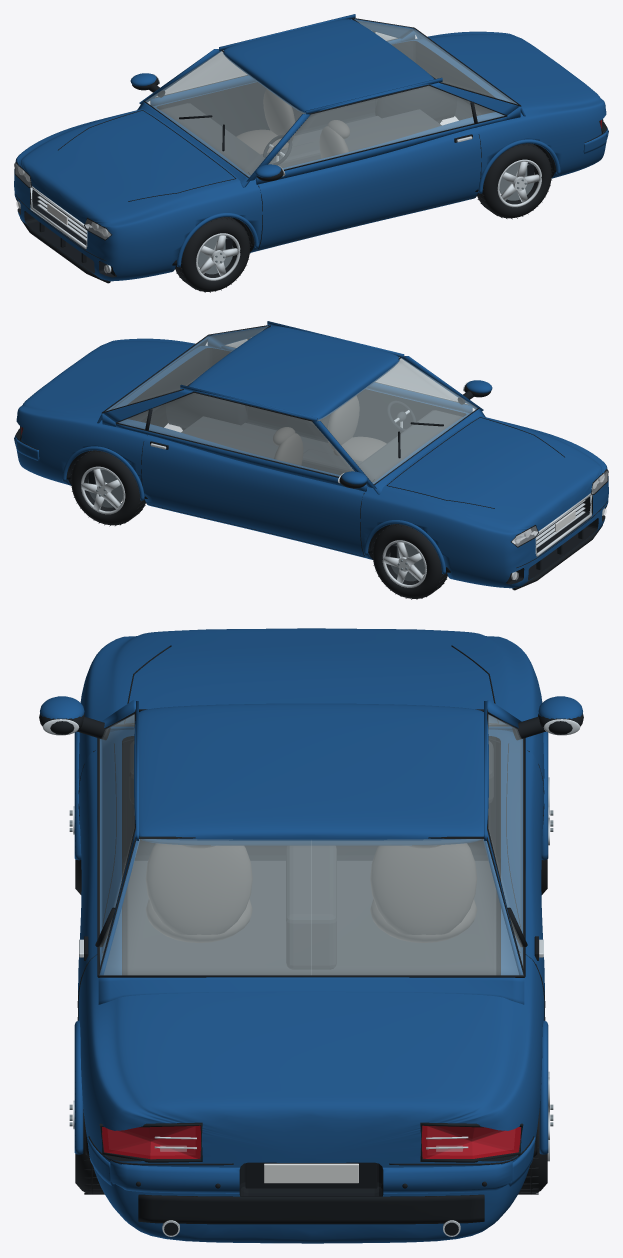
The model's file is generic-front-engine-grand-tourer-coupe.glb.
3 renders of one model, top to bottom at view 1: azimuth 30°, elevation 25°; view 2: azimuth 150°, elevation 25°; view 3: azimuth 270°, elevation 25°, orthographic. The views are drawn at different scales.
Visible parts, largest first — view 1: Original grand_tourer fourteen-section body shell, Separate closed door panel, Crowned roof pressing, Raked transparent windscreen, Single long coupe door glass, Separate closed door panel.001, Rear transparent coupe glass, Original tyre carcass and shaped sidewalls, Original tyre carcass and shaped sidewalls.002, Interior carpet, Sculpted instrument panel, Wheelhouse arched liner.003 (+25 smaller); view 2: Original grand_tourer fourteen-section body shell, Separate closed door panel.001, Crowned roof pressing, Raked transparent windscreen, Single long coupe door glass.001, Separate closed door panel, Rear transparent coupe glass, Original tyre carcass and shaped sidewalls.001, Original tyre carcass and shaped sidewalls.003, Interior carpet, Sculpted instrument panel, Wheelhouse arched liner.002 (+25 smaller); view 3: Original grand_tourer fourteen-section body shell, Rear transparent coupe glass, Crowned roof pressing, Interior carpet, Sculpted rear lower bumper insert, Contoured seat back, Contoured seat back.001, Painted rear glass sill, Formed painted rear bumper cover, Center console, Separate closed door panel.001, Separate closed door panel (+18 smaller).
Boxes of the visible parts, x1,y1,x2,y2 form: Original grand_tourer fourteen-section body shell: [14, 31, 606, 281]; Separate closed door panel: [255, 128, 481, 249]; Crowned roof pressing: [223, 19, 434, 113]; Raked transparent windscreen: [145, 51, 305, 176]; Single long coupe door glass: [268, 86, 504, 169]; Separate closed door panel.001: [157, 82, 375, 136]; Rear transparent coupe glass: [355, 19, 516, 103]; Original tyre carcass and shaped sidewalls: [176, 217, 249, 291]; Original tyre carcass and shaped sidewalls.002: [477, 143, 551, 218]; Interior carpet: [292, 109, 441, 151]; Sculpted instrument panel: [160, 103, 273, 174]; Wheelhouse arched liner.003: [375, 86, 457, 121]; Original grand_tourer fourteen-section body shell: [16, 338, 608, 588]; Separate closed door panel.001: [141, 435, 367, 556]; Crowned roof pressing: [188, 326, 399, 420]; Raked transparent windscreen: [317, 358, 477, 483]; Single long coupe door glass.001: [118, 393, 354, 476]; Separate closed door panel: [247, 389, 465, 443]; Rear transparent coupe glass: [106, 326, 267, 410]; Original tyre carcass and shaped sidewalls.001: [373, 524, 447, 598]; Original tyre carcass and shaped sidewalls.003: [71, 450, 145, 525]; Interior carpet: [181, 416, 334, 458]; Sculpted instrument panel: [349, 410, 462, 481]; Wheelhouse arched liner.002: [166, 393, 247, 428]; Original grand_tourer fourteen-section body shell: [78, 628, 544, 1243]; Rear transparent coupe glass: [100, 839, 522, 975]; Crowned roof pressing: [134, 703, 488, 845]; Interior carpet: [126, 861, 496, 975]; Sculpted rear lower bumper insert: [138, 1194, 484, 1224]; Contoured seat back: [145, 843, 252, 934]; Contoured seat back.001: [370, 843, 477, 934]; Painted rear glass sill: [98, 977, 524, 1004]; Formed painted rear bumper cover: [110, 1161, 512, 1193]; Center console: [286, 845, 336, 969]; Separate closed door panel.001: [496, 743, 544, 994]; Separate closed door panel: [78, 743, 126, 994].
Bounding box in the file's own units: 4.84 × 1.35 × 2.24.
11 materials, 11 textured.
